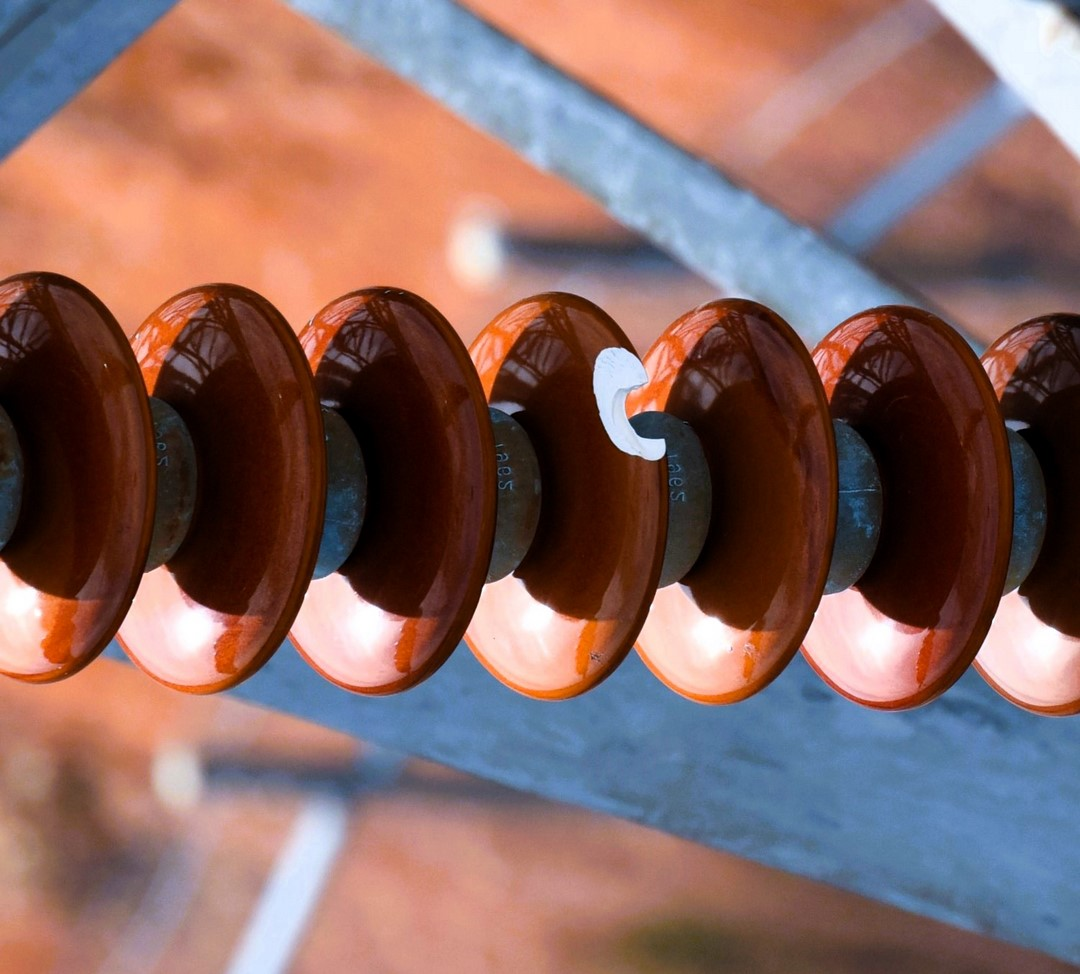insulator breakage: (437, 284, 678, 705)
